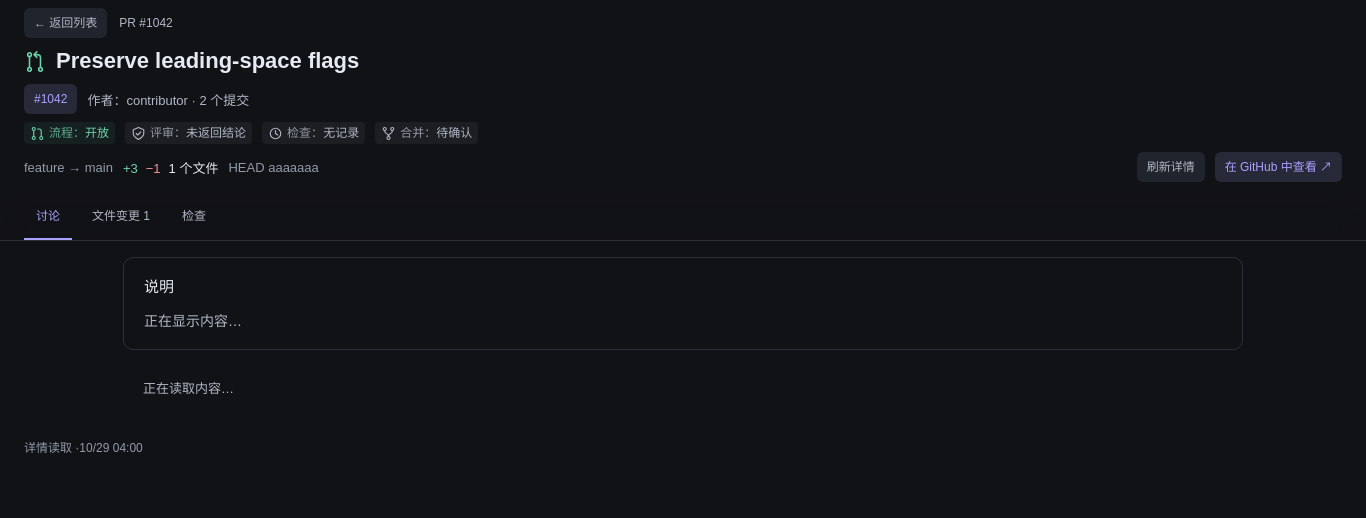
Test: shows the overview while discussion is pending and requests files/checks only when selected
Expected: the heading "说明" is shown, [144,278,174,295]
Step 1. Click the tab "文件变更 1" → (121, 217), box [80,194,162,240]
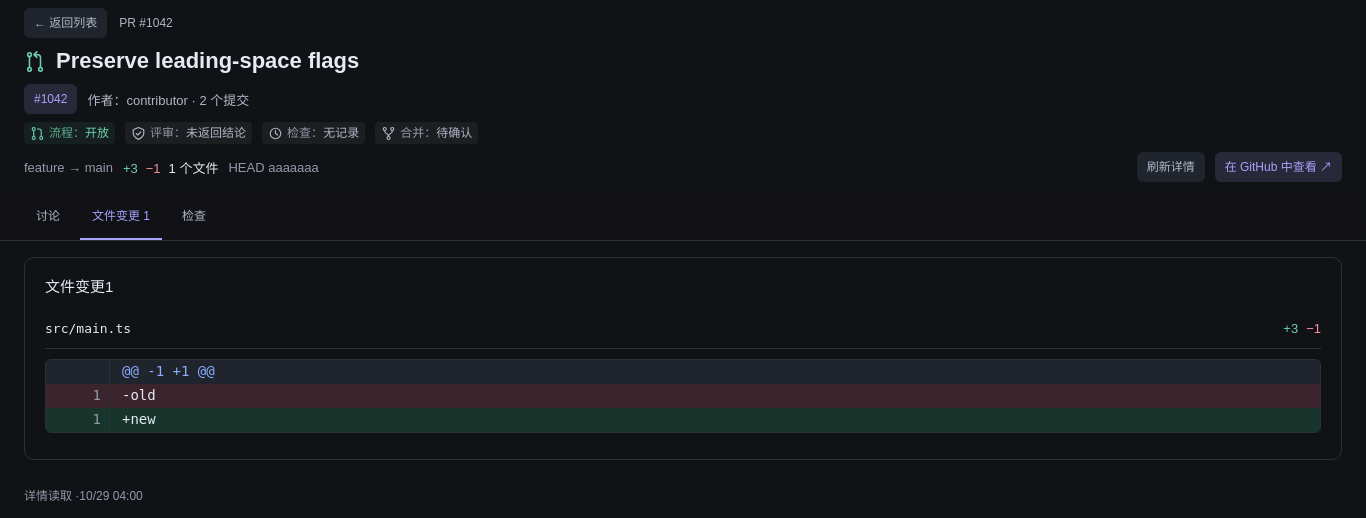
Now the text "src/main.ts" is shown, box [45,321,131,336]
Now the text "@@ -1 +1 @@" is shown, box [122,363,215,379]
Step 2. Click the tab "检查" → (194, 217), box [170,194,218,240]
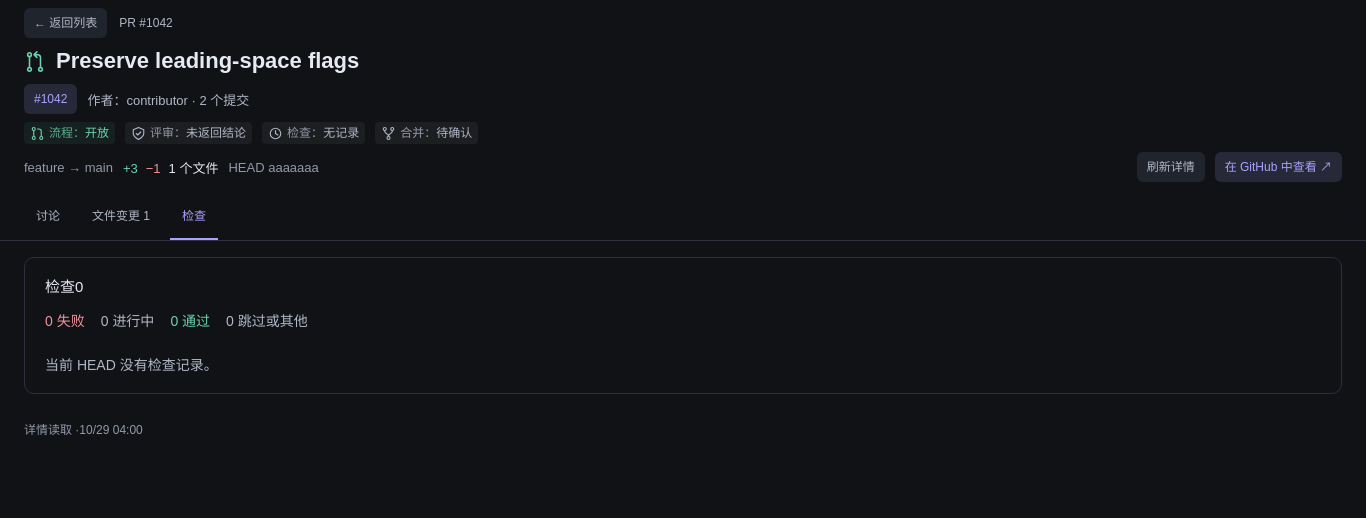
Now the text "当前 HEAD 没有检查记录。" is shown, box [45,357,218,373]
